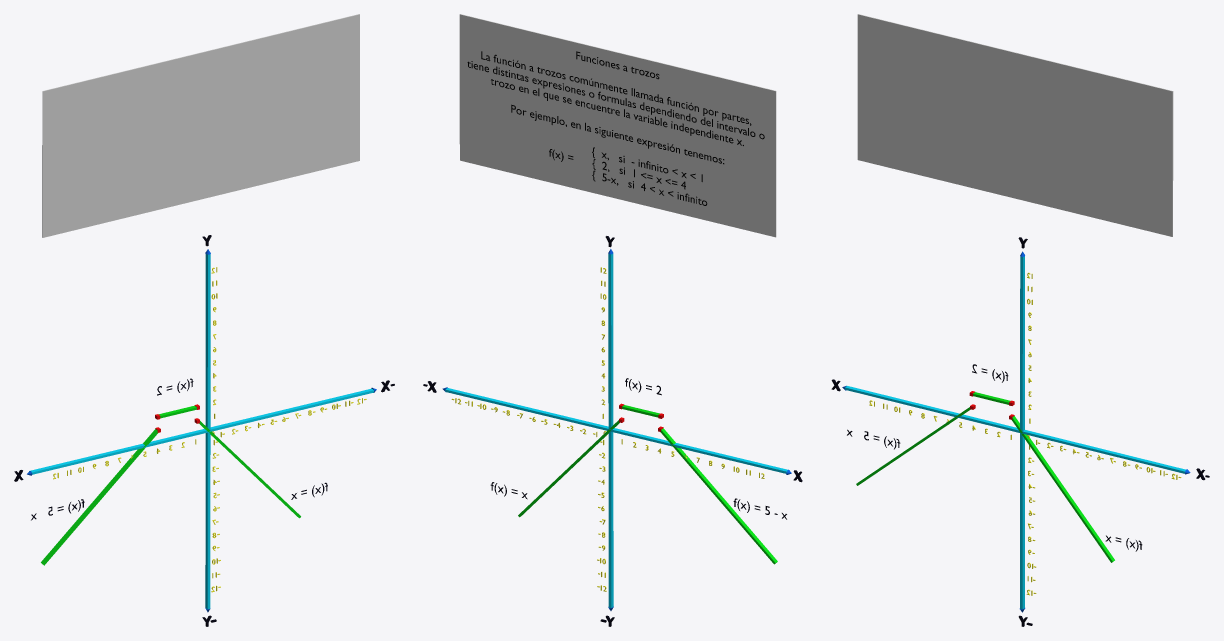
The model's file is f-trozos.fbx.
3 renders of one model, left to right at view 1: azimuth 30°, elevation 25°; view 2: azimuth 150°, elevation 25°; view 3: azimuth 330°, elevation 25°, orthographic.
Visible parts, largest first — view 1: Cubo.003, Cubo.001, Cubo, Cubo.006; view 2: Cubo.003, Text.087, Cubo.001, Cubo, Cubo.006; view 3: Cubo.003, Cubo, Cubo.001, Cubo.004.
Part boxes in pixels (<box>): Cubo.003: <box>42,14,359,237</box>; Cubo.001: <box>205,254,210,609</box>; Cubo: <box>29,388,373,474</box>; Cubo.006: <box>41,429,157,565</box>; Cubo.003: <box>459,14,776,237</box>; Text.087: <box>467,51,764,205</box>; Cubo.001: <box>608,253,613,607</box>; Cubo: <box>445,388,787,473</box>; Cubo.006: <box>660,428,777,564</box>; Cubo.003: <box>857,14,1173,236</box>; Cubo: <box>844,386,1185,473</box>; Cubo.001: <box>1020,256,1024,609</box>; Cubo.004: <box>1012,416,1114,562</box>.
Bounding box in the file's own units: 599 × 869 × 8.65.
